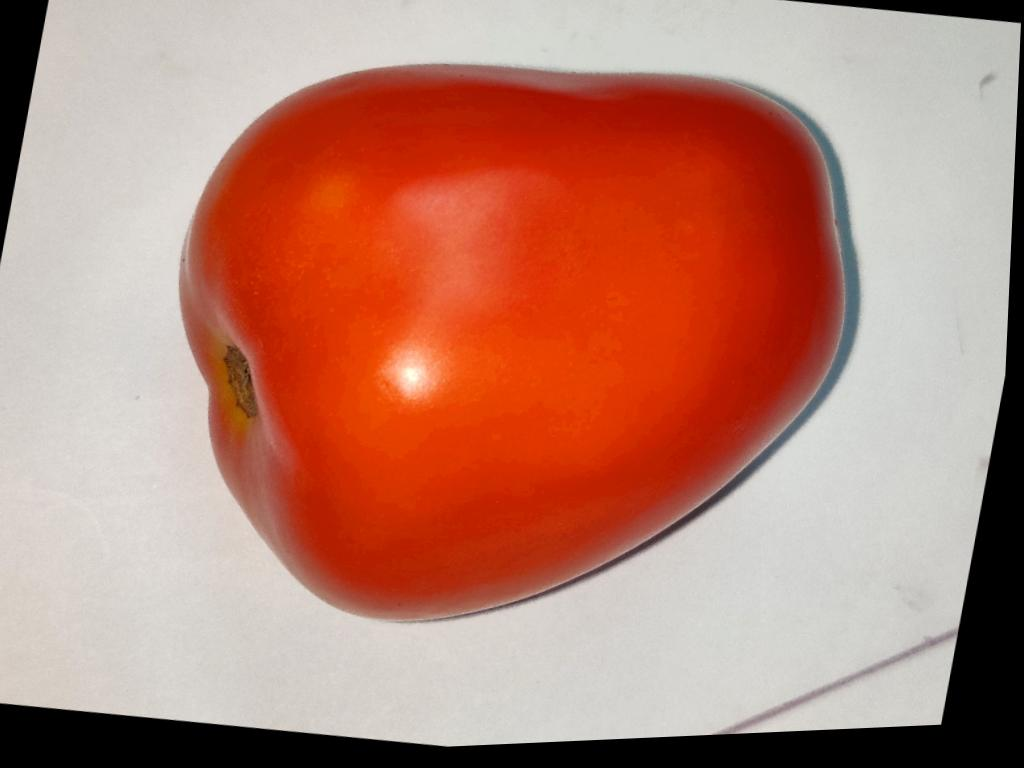tomato: (181, 65, 844, 619)
